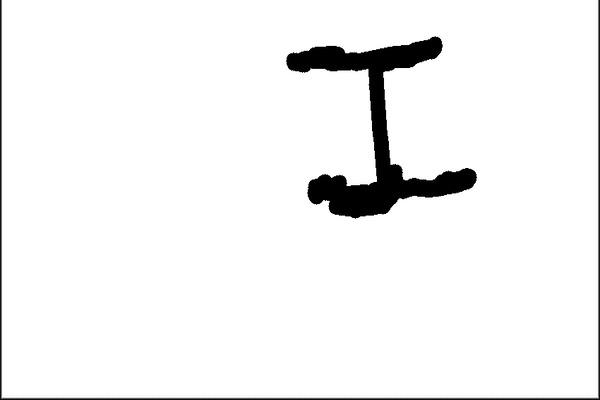i: (284, 28, 479, 218)
